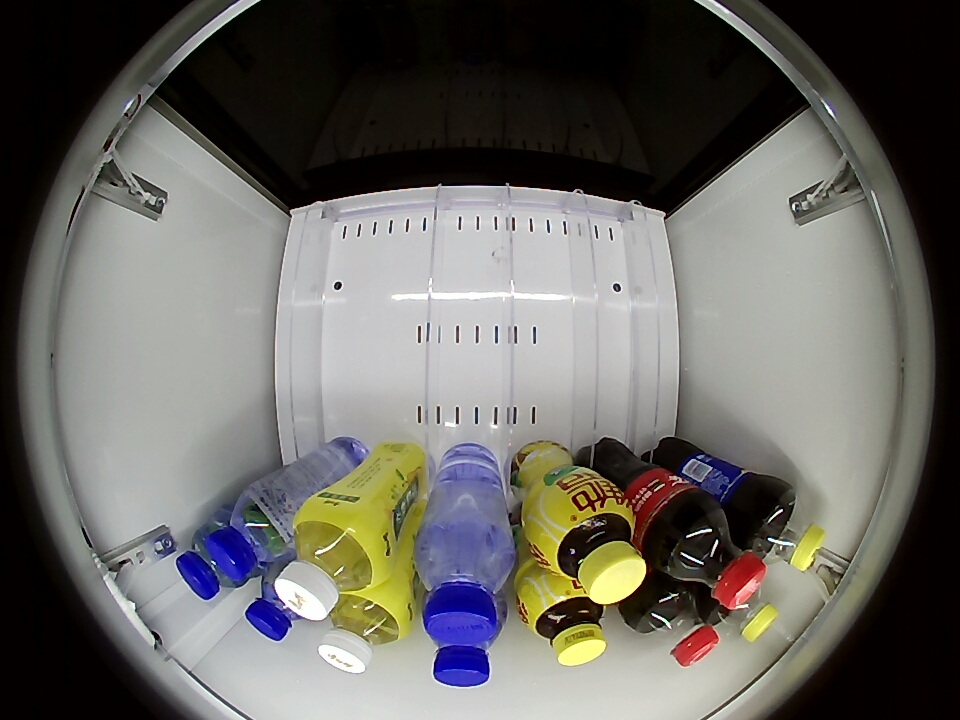aerbeisi: (414, 519, 514, 646), (211, 490, 291, 579), (426, 618, 505, 688), (246, 567, 308, 642)
baishikele: (748, 489, 826, 571), (711, 589, 779, 642)
bingtangxueli: (274, 502, 390, 620), (320, 590, 411, 674)
kele-b: (665, 506, 765, 609), (633, 584, 720, 667)
maidong: (177, 528, 244, 601)
weitaningmeng-bottle: (532, 489, 648, 606), (522, 581, 607, 667)
